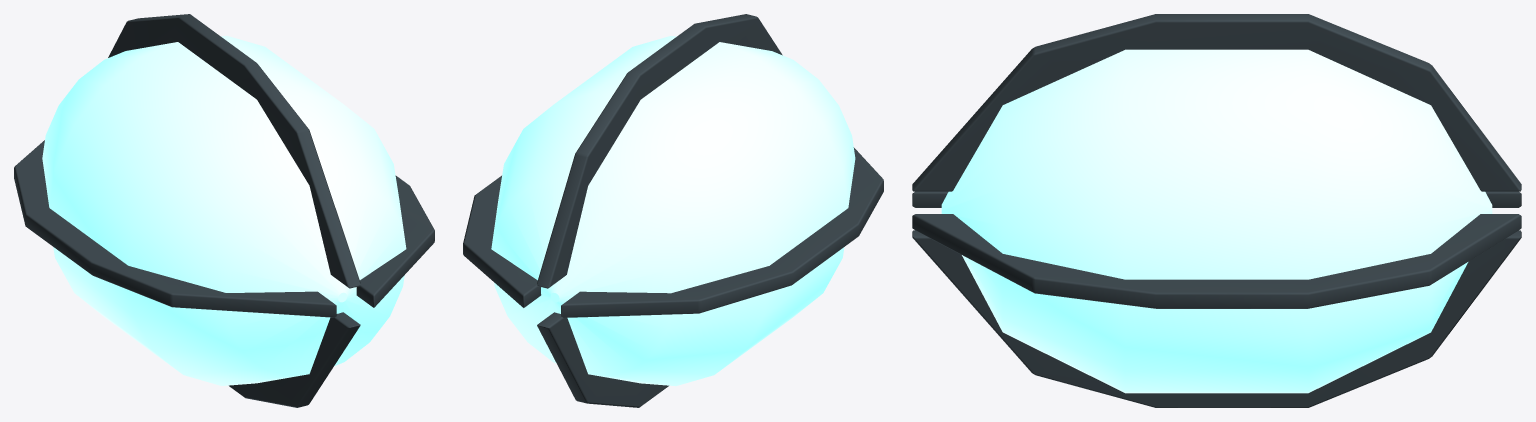
File: zb_orb_gun.glb
3 views of the same model, side by side, from view 1: azimuth 30°, elevation 25°; view 2: azimuth 150°, elevation 25°; view 3: azimuth 270°, elevation 25° (orthographic). The views are drawn at different scales.
Visible parts, largest first — view 1: zb_orb_gun / Ion exhaust, zb_orb_gun / Carbon ceramic; view 2: zb_orb_gun / Ion exhaust, zb_orb_gun / Carbon ceramic; view 3: zb_orb_gun / Ion exhaust, zb_orb_gun / Carbon ceramic.
Part boxes in pixels (left/top/right/bottom): zb_orb_gun / Ion exhaust: left=42, top=35, right=406, bottom=385; zb_orb_gun / Carbon ceramic: left=14, top=14, right=434, bottom=407; zb_orb_gun / Ion exhaust: left=491, top=36, right=855, bottom=386; zb_orb_gun / Carbon ceramic: left=463, top=14, right=883, bottom=407; zb_orb_gun / Ion exhaust: left=941, top=49, right=1492, bottom=393; zb_orb_gun / Carbon ceramic: left=912, top=14, right=1521, bottom=407.
Bounding box in the file's own units: 14 × 14 × 19.91.
